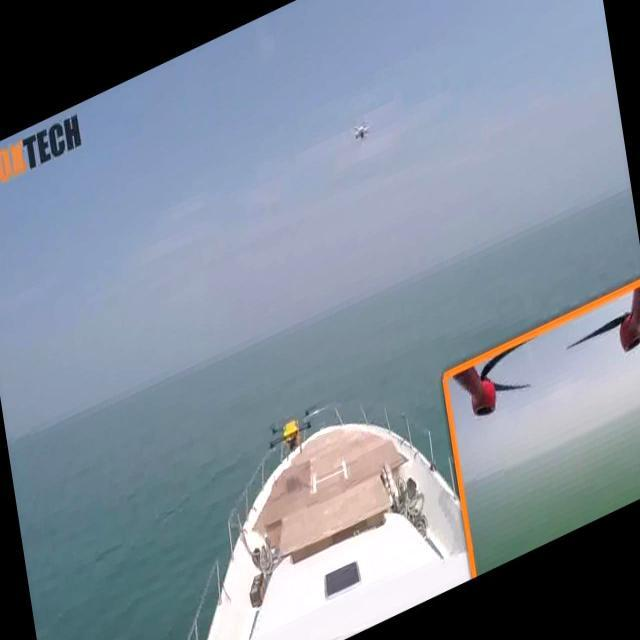drone: (266, 398, 318, 476), (348, 114, 376, 148)
